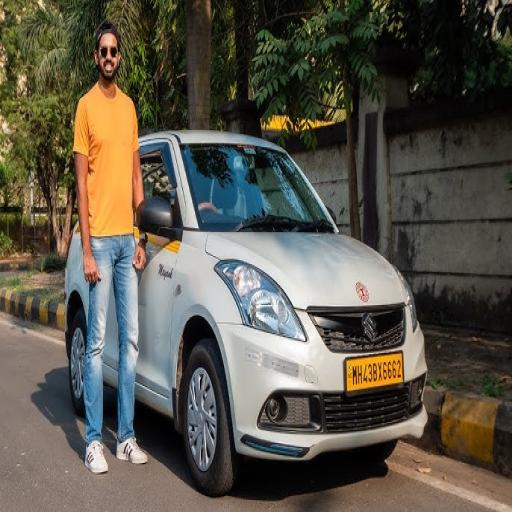License: (343, 357, 404, 388)
